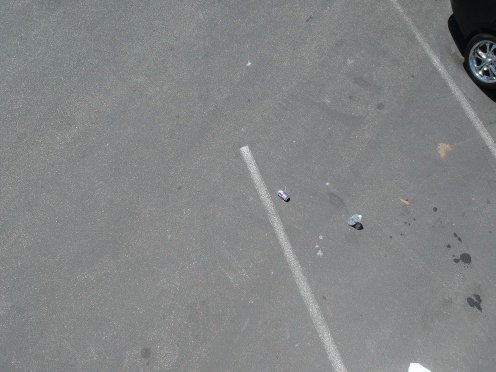bottle: (345, 209, 369, 232)
can: (274, 184, 291, 201)
